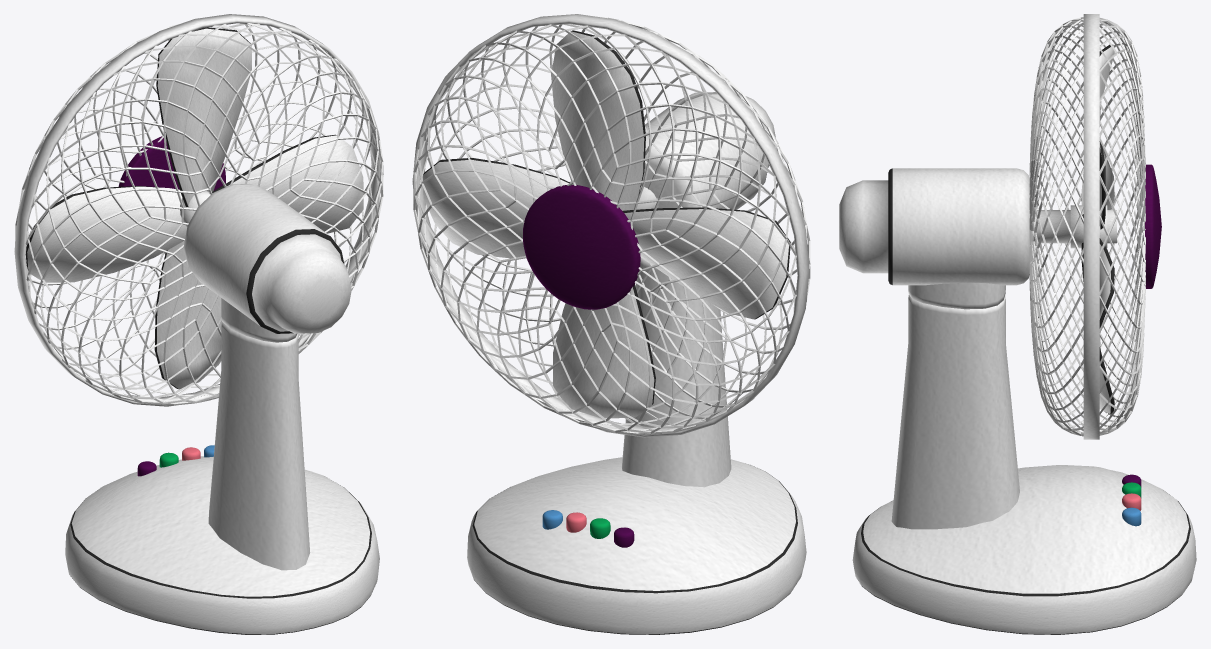
Rendered from FanModel_SD.fbx.
The picture shows the model from 3 angles, left to right: view 1: azimuth 30°, elevation 25°; view 2: azimuth 150°, elevation 25°; view 3: azimuth 270°, elevation 25°; orthographic projection. The views are drawn at different scales.
Visible parts, largest first — view 1: Cylinder, Cylinder.003, Cylinder.001, Cylinder.002, Cylinder.006, Cylinder.007, Cylinder.004, Cylinder.005; view 2: Cylinder.003, Cylinder, Cylinder.001, Cylinder.002, Cylinder.004, Cylinder.007, Cylinder.006, Cylinder.005; view 3: Cylinder, Cylinder.003, Cylinder.002, Cylinder.006, Cylinder.007, Cylinder.001, Cylinder.004, Cylinder.005.
Part boxes in pixels (x1=…): Cylinder: x1=65, y1=456, x2=379, y2=634; Cylinder.003: x1=15, y1=23, x2=383, y2=405; Cylinder.001: x1=25, y1=27, x2=363, y2=389; Cylinder.002: x1=208, y1=322, x2=310, y2=570; Cylinder.006: x1=183, y1=184, x2=351, y2=342; Cylinder.007: x1=14, y1=14, x2=380, y2=406; Cylinder.004: x1=118, y1=136, x2=225, y2=190; Cylinder.005: x1=137, y1=445, x2=214, y2=476; Cylinder.003: x1=413, y1=16, x2=810, y2=435; Cylinder: x1=467, y1=457, x2=806, y2=634; Cylinder.001: x1=423, y1=30, x2=790, y2=418; Cylinder.002: x1=622, y1=258, x2=731, y2=487; Cylinder.004: x1=523, y1=185, x2=640, y2=309; Cylinder.007: x1=412, y1=14, x2=809, y2=437; Cylinder.006: x1=641, y1=92, x2=775, y2=258; Cylinder.005: x1=542, y1=510, x2=634, y2=547; Cylinder: x1=852, y1=465, x2=1196, y2=634; Cylinder.003: x1=1029, y1=17, x2=1145, y2=436; Cylinder.002: x1=891, y1=295, x2=1019, y2=529; Cylinder.006: x1=839, y1=168, x2=1029, y2=309; Cylinder.007: x1=1083, y1=14, x2=1099, y2=439; Cylinder.001: x1=1033, y1=44, x2=1116, y2=413; Cylinder.004: x1=1141, y1=164, x2=1161, y2=288; Cylinder.005: x1=1122, y1=474, x2=1141, y2=526.
Bounding box in the file's own units: 185 × 256 × 155.
